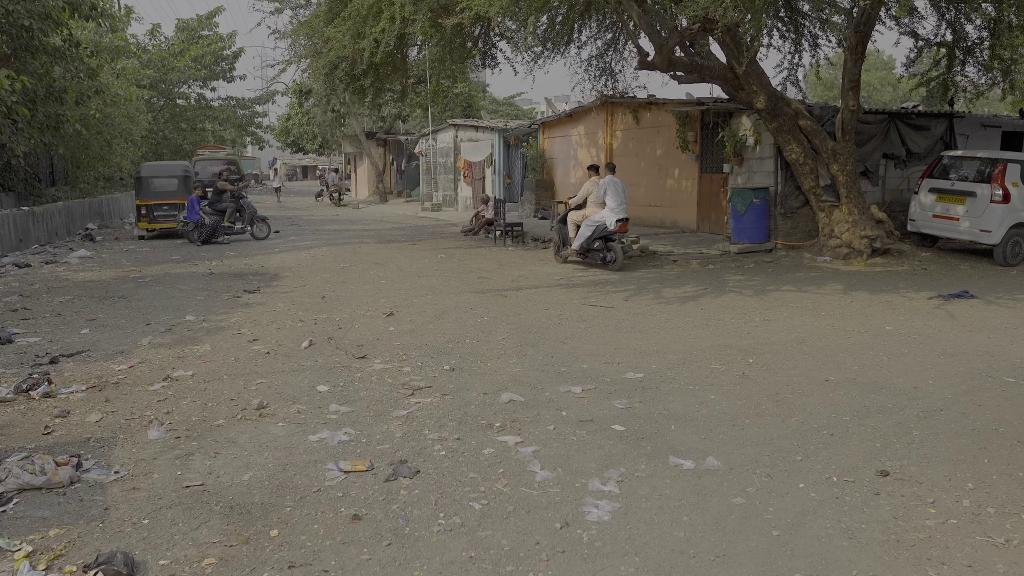garbage: (0, 450, 87, 492), (16, 369, 59, 403), (581, 496, 622, 522), (332, 456, 381, 477), (524, 460, 557, 483), (668, 452, 697, 471), (698, 454, 721, 473), (66, 247, 94, 259)
